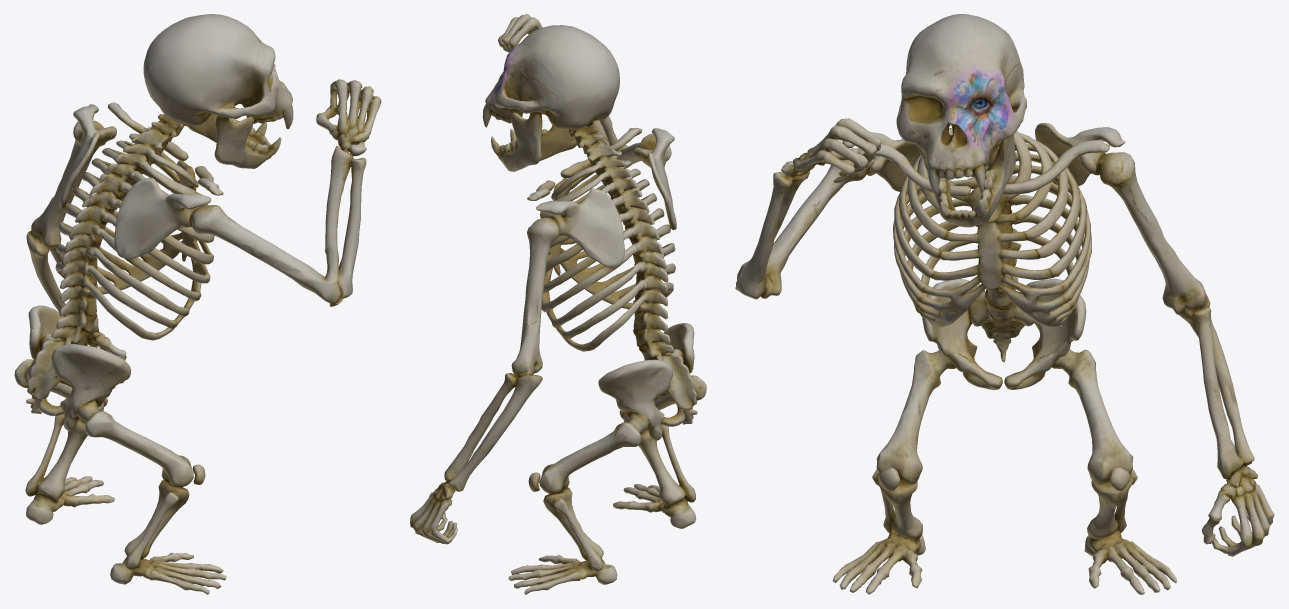
The model's file is ape.glb.
3 views of the same model, side by side, from view 1: azimuth 30°, elevation 25°; view 2: azimuth 150°, elevation 25°; view 3: azimuth 270°, elevation 25° (orthographic). The views are drawn at different scales.
Parts seen in each view (by area): view 1: tripo_node_81ff2e7d-df3c-4233-b6d0-58453781444c; view 2: tripo_node_81ff2e7d-df3c-4233-b6d0-58453781444c; view 3: tripo_node_81ff2e7d-df3c-4233-b6d0-58453781444c.
Part boxes in pixels (<box>): tripo_node_81ff2e7d-df3c-4233-b6d0-58453781444c: <box>14,14,381,594</box>; tripo_node_81ff2e7d-df3c-4233-b6d0-58453781444c: <box>410,14,706,594</box>; tripo_node_81ff2e7d-df3c-4233-b6d0-58453781444c: <box>735,14,1274,594</box>.
Size of the model in its own units: 0.5622 by 1 by 0.824.
Materials: 1 (1 with a texture image).
